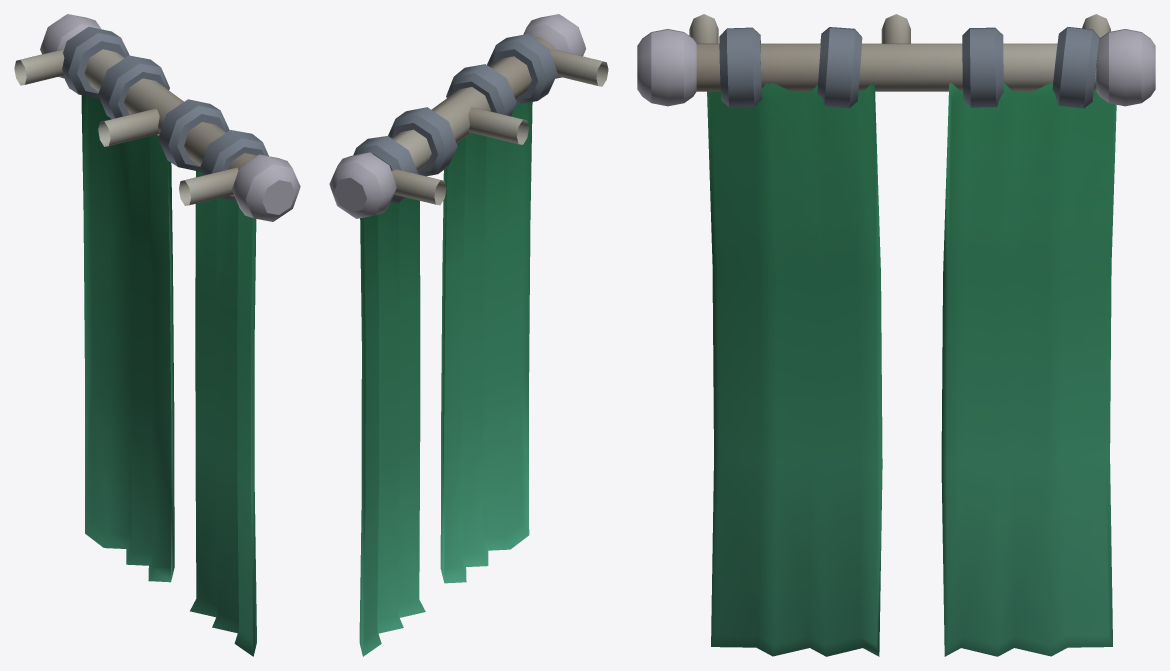
File: Curtains_Short_2_B_F.glb
The picture shows the model from 3 angles, left to right: view 1: azimuth 30°, elevation 25°; view 2: azimuth 150°, elevation 25°; view 3: azimuth 270°, elevation 25°; orthographic projection. The views are drawn at different scales.
Parts seen in each view (by area): view 1: Curtains_Short_2_B_F; view 2: Curtains_Short_2_B_F; view 3: Curtains_Short_2_B_F.
Boxes of the visible parts, x1,y1,x2,y2 form: Curtains_Short_2_B_F: (14, 14, 300, 656); Curtains_Short_2_B_F: (329, 14, 608, 656); Curtains_Short_2_B_F: (637, 14, 1155, 656).
Bounding box in the file's own units: 0.2275 × 1.16 × 0.8807.
Materials: 2 (2 with a texture image).
